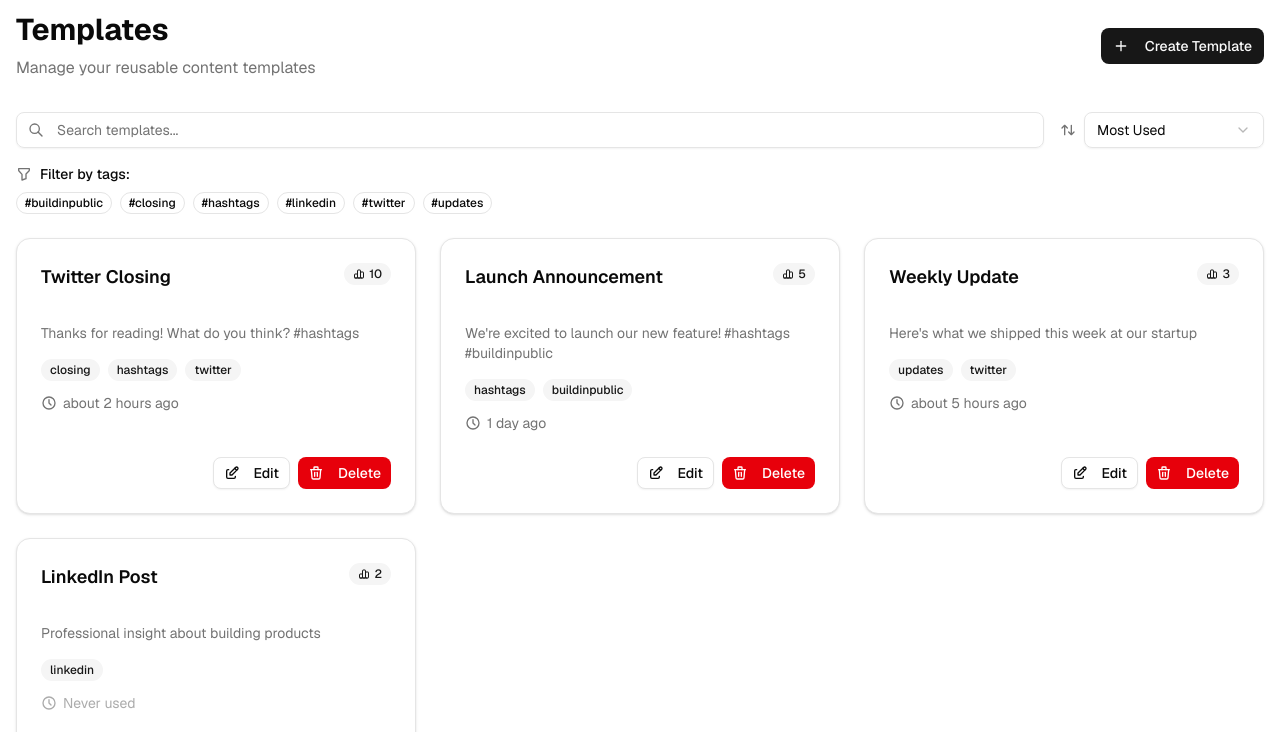
Test: TemplateLibrary - Search and Filter › Tag Filtering › should filter templates with multiple tags (AND logic)
The image size is (1280, 732).
Click the text "#hashtags" at x=231, y=203, box [193,192,269,214]
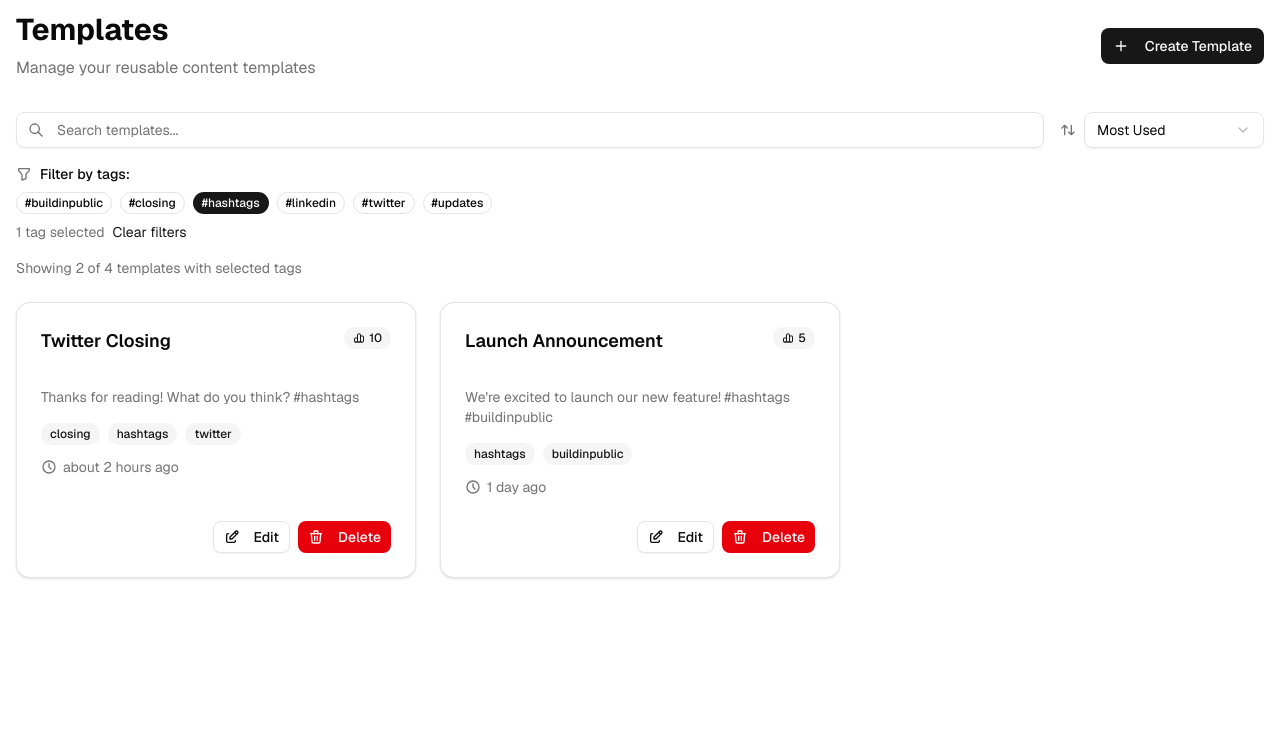
Click the text "#twitter" at x=384, y=203, box [353,192,415,214]
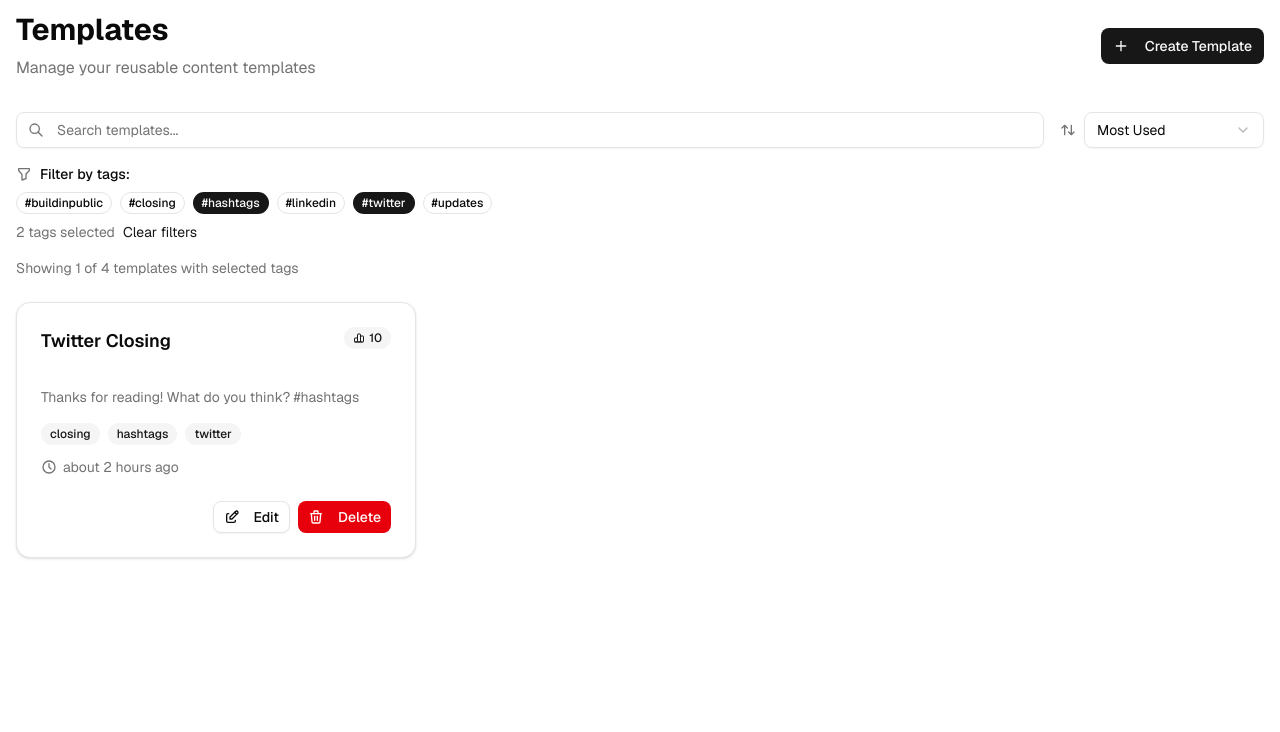
Expected: the text "Twitter Closing" is shown, [41,329,171,352]
Expected: the text "Launch Announcement" is gone
Expected: the text "2 tags selected" is shown, [16,222,115,242]
